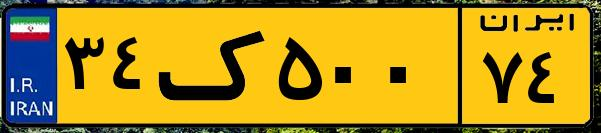0: (385, 28, 445, 110), (330, 28, 385, 110)
3: (57, 26, 110, 100)
4: (525, 38, 570, 115), (110, 28, 158, 98)
5: (270, 28, 330, 110)
7: (475, 38, 525, 113)
ک: (158, 12, 270, 120)
